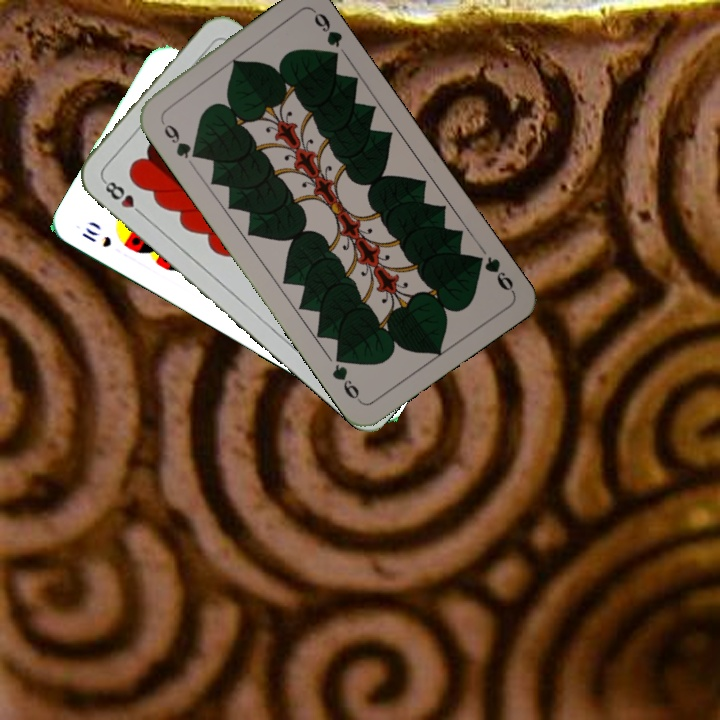G9: (156, 115, 202, 162), (468, 251, 517, 295)
H8: (99, 175, 147, 219)
S10: (78, 223, 114, 250)
